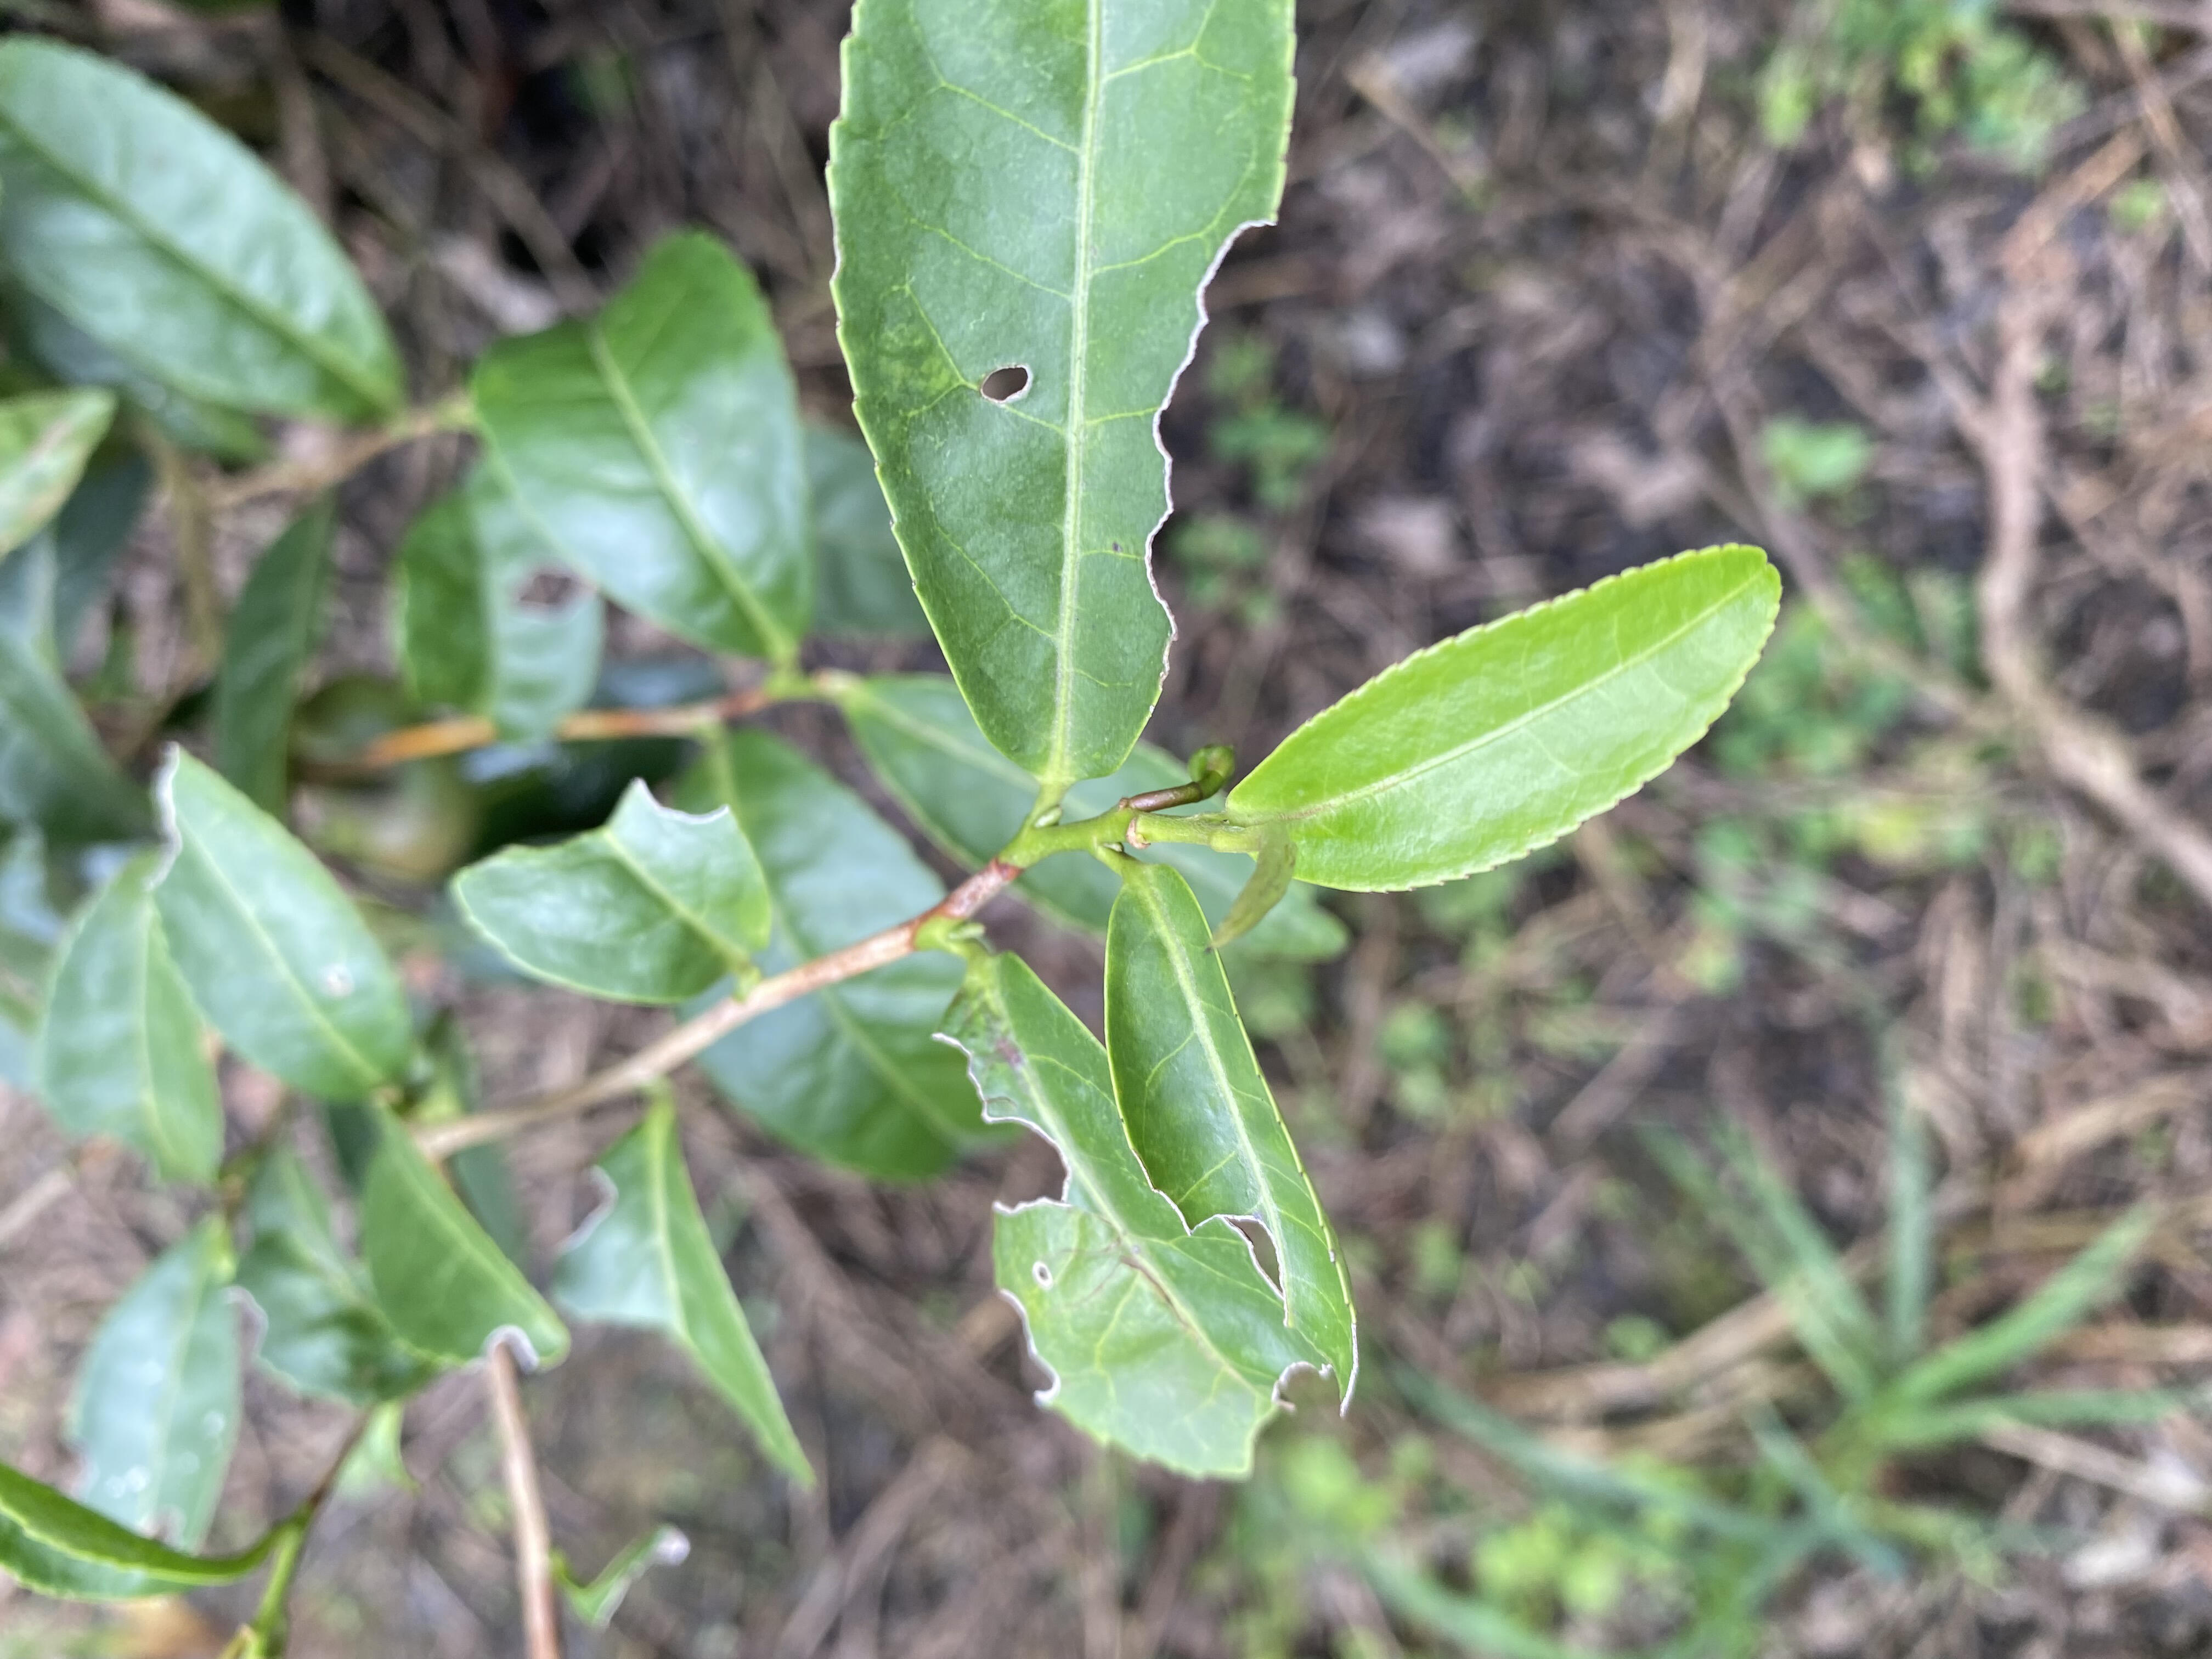chihuo_high: (815, 3, 1299, 786), (928, 951, 1324, 1485), (1101, 864, 1360, 1415), (451, 775, 772, 1007)
chihuo_low: (146, 742, 411, 1108)
healthy: (1226, 544, 1785, 896)
